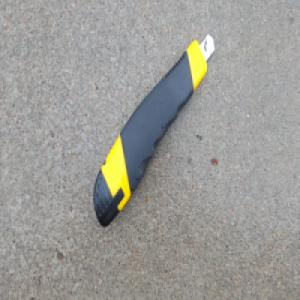Cutter: (92, 32, 216, 229)
